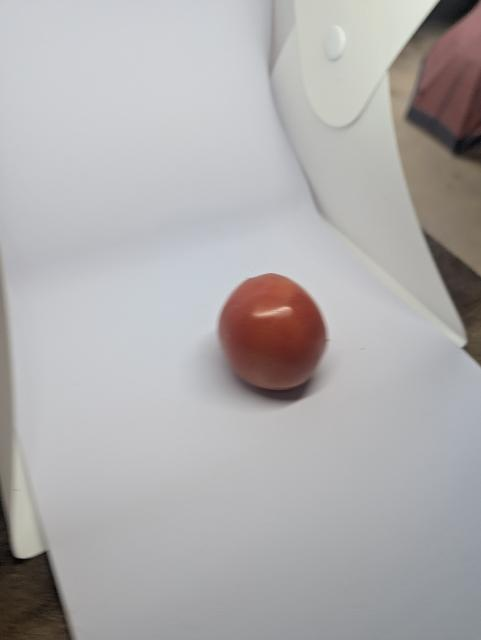red: (203, 257, 338, 410)
